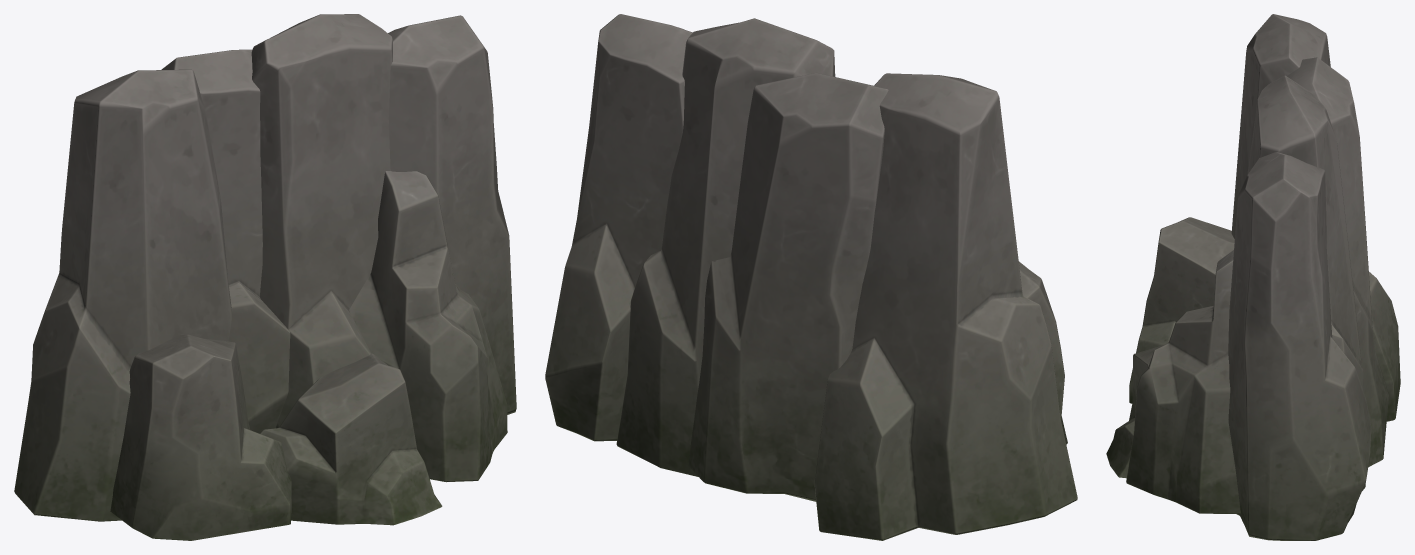
The model's file is AP2_Rock13.glb.
The picture shows the model from 3 angles, left to right: view 1: azimuth 30°, elevation 25°; view 2: azimuth 150°, elevation 25°; view 3: azimuth 270°, elevation 25°; orthographic projection. The views are drawn at different scales.
Parts seen in each view (by area): view 1: Rock13_LOD0; view 2: Rock13_LOD0; view 3: Rock13_LOD0.
Boxes of the visible parts, bbox=[...] form: Rock13_LOD0: bbox=[14, 14, 516, 540]; Rock13_LOD0: bbox=[545, 14, 1077, 540]; Rock13_LOD0: bbox=[1106, 14, 1400, 540].
Size of the model in its own units: 10.15 by 8.79 by 6.06.
1 material, 1 textured.
